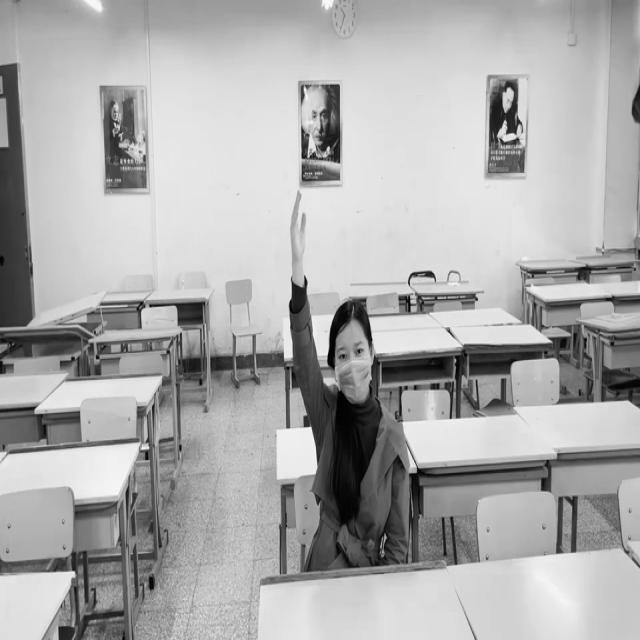study: (288, 188, 409, 565)
